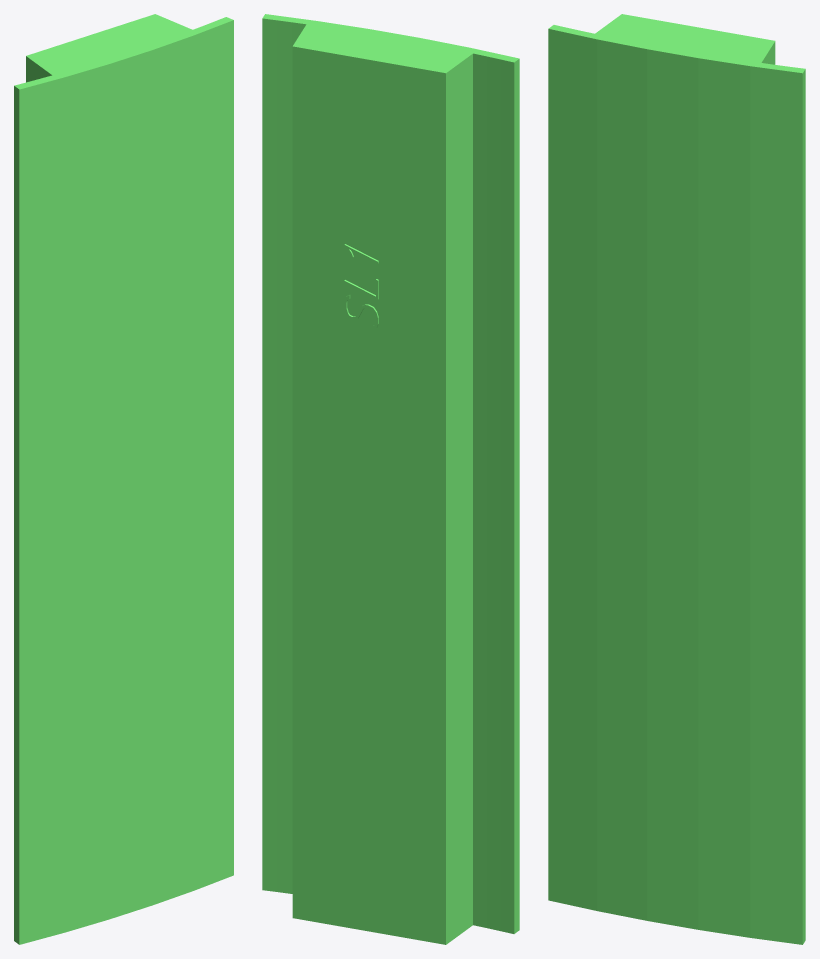
The model's file is product_w9_5780_4.glb.
The picture shows the model from 3 angles, left to right: view 1: azimuth 30°, elevation 25°; view 2: azimuth 150°, elevation 25°; view 3: azimuth 330°, elevation 25°; orthographic projection.
Visible parts, largest first — view 1: Node1; view 2: Node1; view 3: Node1.
Part boxes in pixels (x1=…): Node1: x1=14, y1=14, x2=233, y2=944; Node1: x1=262, y1=14, x2=519, y2=944; Node1: x1=548, y1=14, x2=805, y2=944.
Bounding box in the file's own units: 0.3747 × 1.32 × 0.1217.
